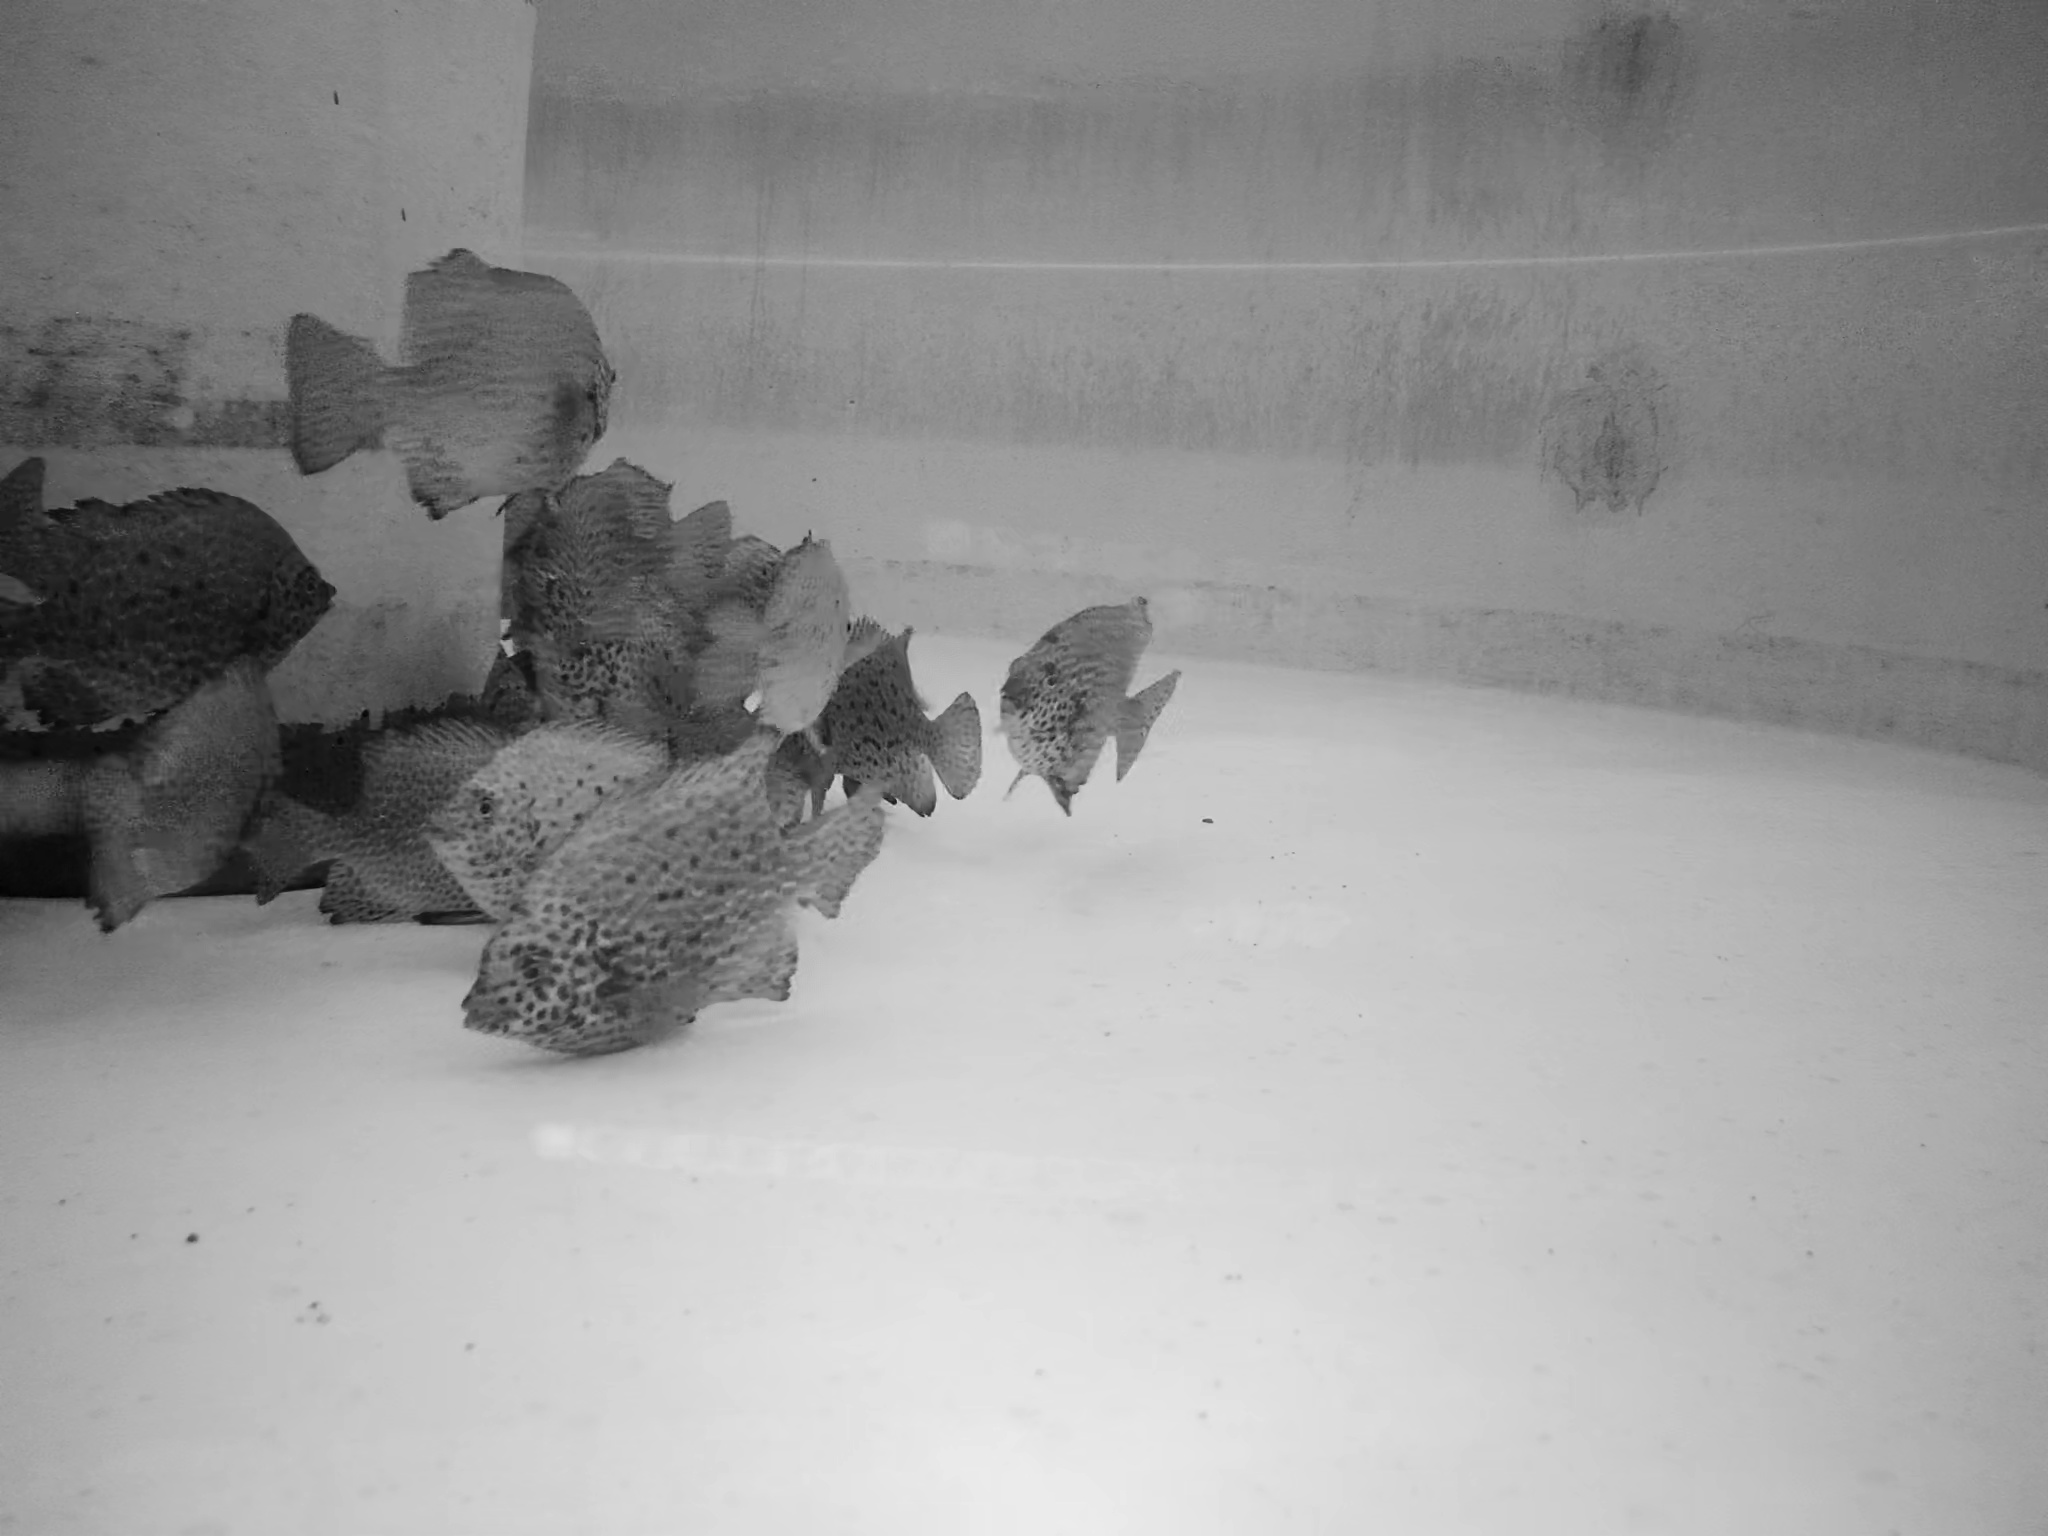fish: (455, 716, 898, 1054), (279, 240, 616, 487), (15, 453, 345, 694), (264, 720, 555, 921), (423, 702, 681, 923), (73, 687, 298, 916), (1001, 582, 1187, 807), (505, 613, 776, 736), (819, 641, 989, 821), (534, 463, 734, 600), (751, 532, 860, 729)
